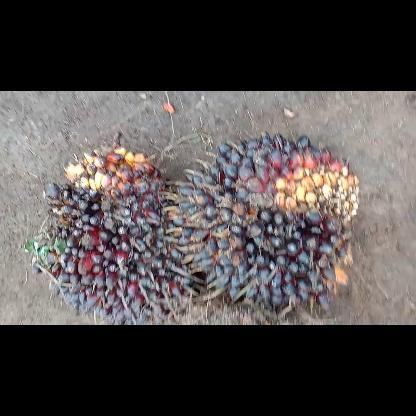TBS mentah: (170, 130, 362, 314), (31, 144, 201, 324)
